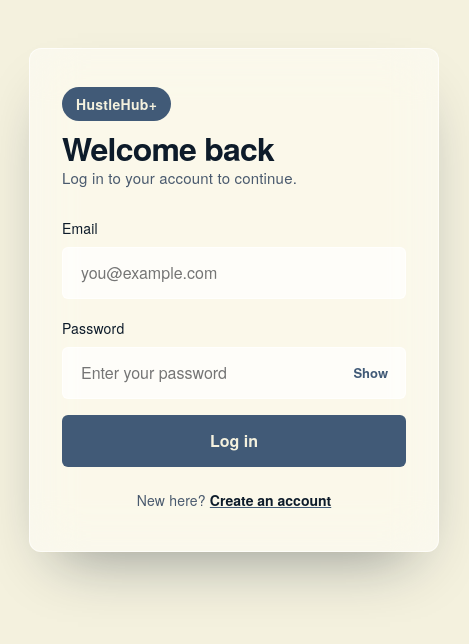
Test: LoginForm › shows the API error and clears the password on a failed login
Type "test@example.com" into the field labelled "Email".
click(234, 273); type("test@example.com")  # box [62, 247, 406, 299]
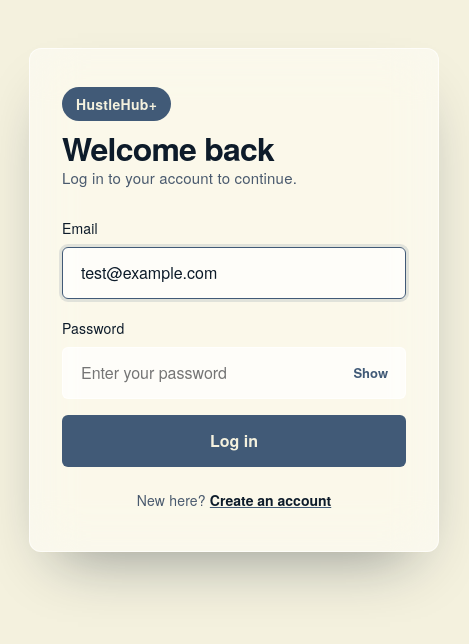
Type "Passw0rd!" into the password field labelled "Password".
click(234, 373); type("Passw0rd!")  # box [62, 347, 406, 399]
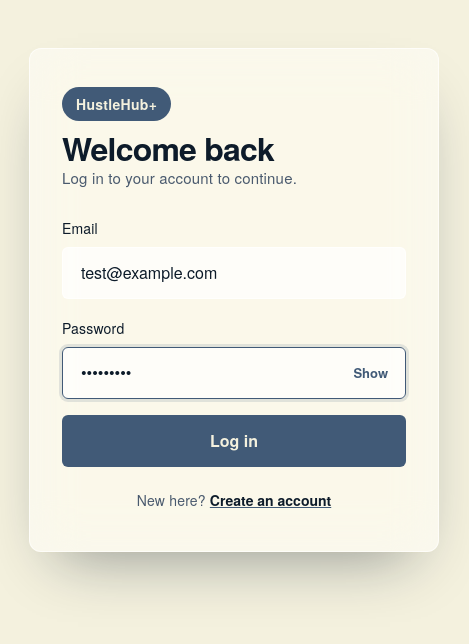
Click the button "Log in".
click(234, 441)  # box [62, 415, 406, 467]
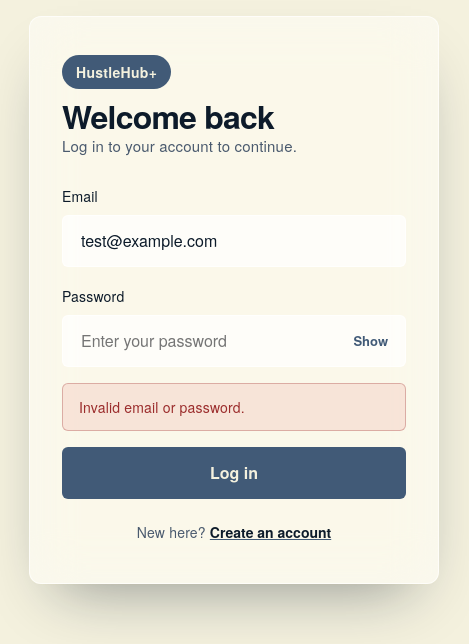
Expected: the message reads "Invalid email or password.", [79, 397, 245, 417]
Expected: the password field labelled "Password" is empty, [62, 315, 406, 367]
